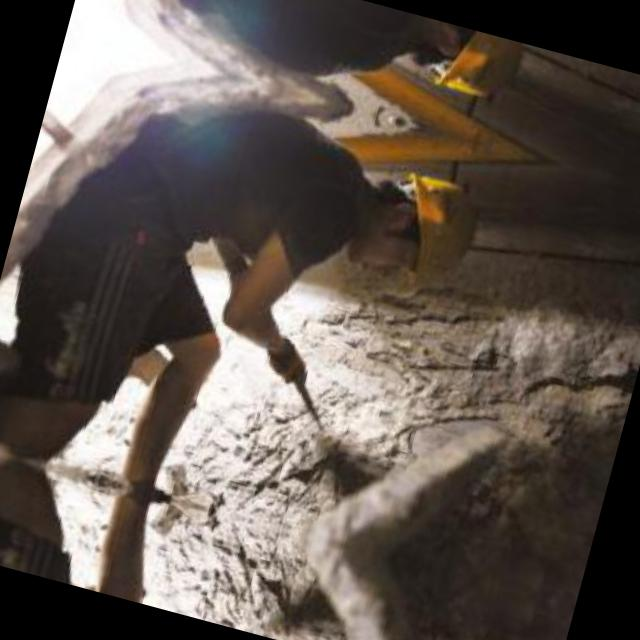helmet: (334, 148, 484, 290), (382, 10, 522, 112)
